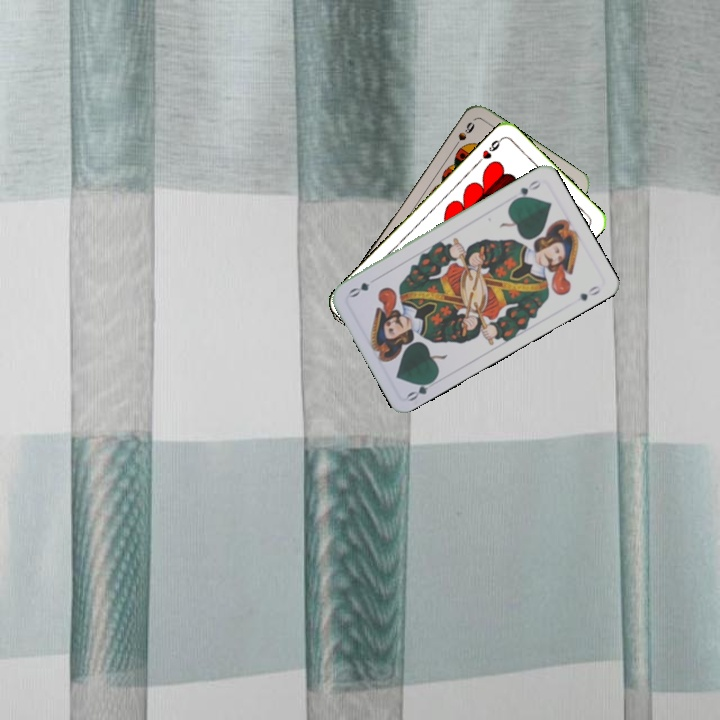GO: (403, 374, 440, 404), (508, 176, 543, 204)
H9: (473, 134, 505, 166)
S9: (449, 117, 477, 152)
